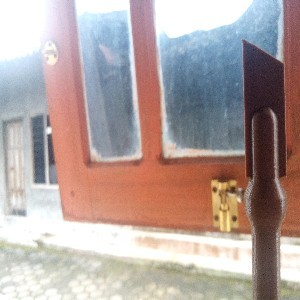cutter: (241, 37, 289, 300)
